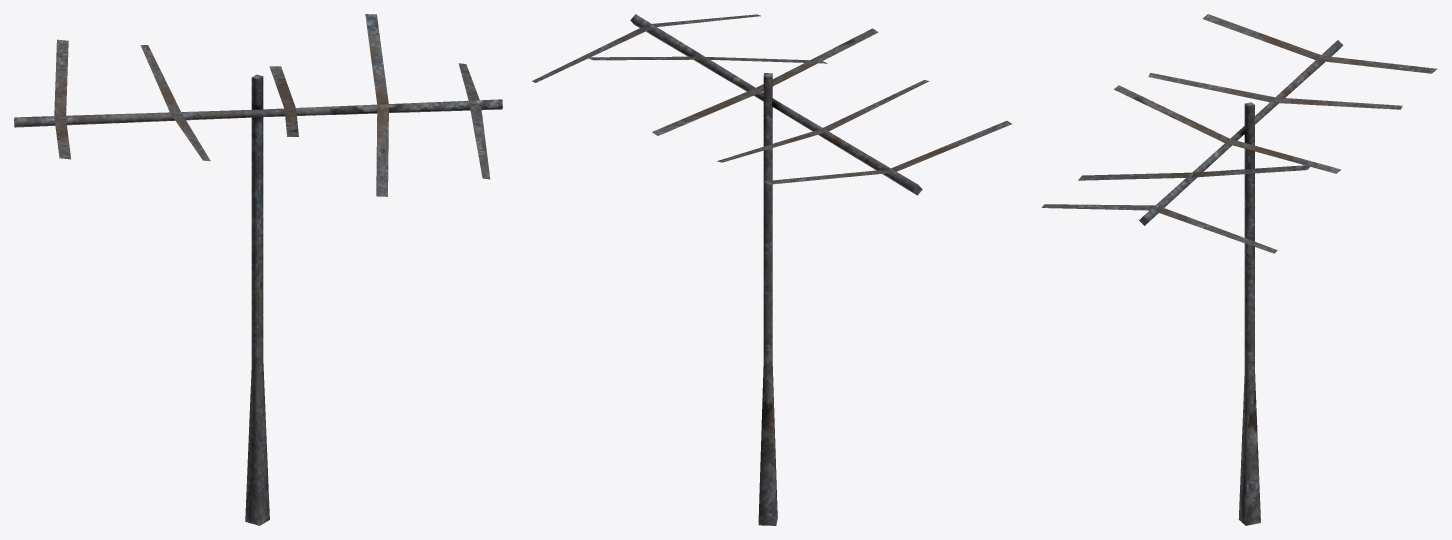
Rendered from Antenna_02.FBX.
3 renders of one model, left to right at view 1: azimuth 30°, elevation 25°; view 2: azimuth 150°, elevation 25°; view 3: azimuth 270°, elevation 25°, orthographic. The views are drawn at different scales.
Visible parts, largest first — view 1: Antenna_02; view 2: Antenna_02; view 3: Antenna_02.
Boxes of the visible parts, bbox=[...] form: Antenna_02: bbox=[14, 14, 502, 525]; Antenna_02: bbox=[532, 14, 1011, 525]; Antenna_02: bbox=[1041, 14, 1436, 525].
Bounding box in the file's own units: 182 × 176 × 150.
